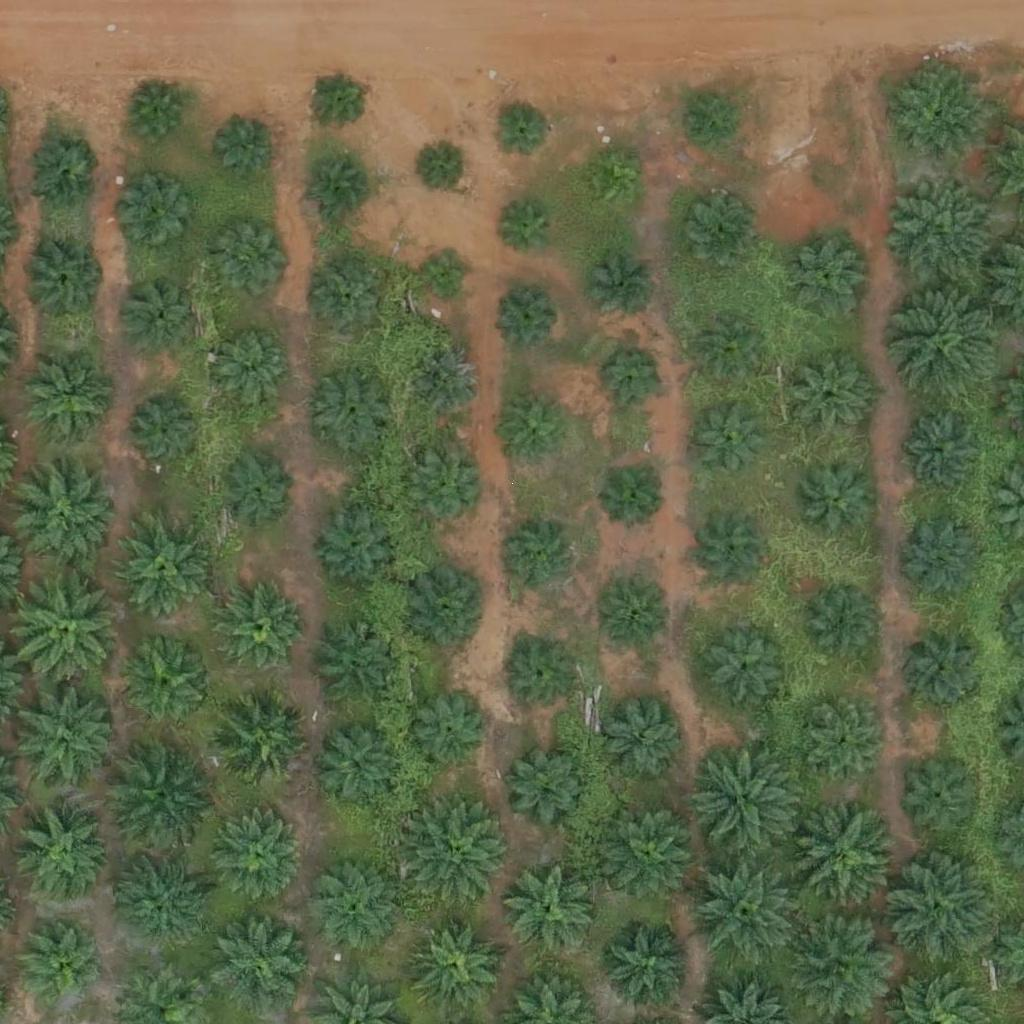Kelapa_Sawit: (3, 567, 128, 693), (889, 178, 1002, 292), (895, 285, 1008, 399), (785, 910, 898, 1023), (686, 743, 799, 856), (686, 856, 799, 969), (104, 740, 216, 854), (883, 850, 995, 963), (784, 803, 896, 916), (890, 65, 990, 166), (601, 803, 701, 904), (408, 800, 508, 901), (12, 800, 112, 901), (15, 467, 115, 567), (109, 518, 209, 618), (302, 858, 402, 958), (212, 694, 312, 794), (206, 809, 306, 909), (210, 918, 310, 1018), (17, 686, 117, 786), (705, 625, 793, 714), (309, 365, 397, 453), (404, 565, 492, 653), (24, 357, 112, 445), (313, 505, 401, 593), (801, 697, 889, 785), (606, 924, 694, 1012), (501, 742, 589, 830), (505, 868, 593, 956), (122, 642, 210, 730), (116, 859, 204, 947), (596, 695, 683, 784), (19, 236, 106, 324), (905, 625, 992, 713), (218, 586, 305, 674), (313, 624, 400, 712), (411, 921, 498, 1009), (315, 722, 402, 810), (213, 327, 288, 403), (123, 275, 198, 351), (128, 394, 203, 470), (217, 450, 292, 526), (696, 308, 771, 384), (680, 198, 755, 274), (794, 359, 869, 435), (23, 136, 98, 212), (789, 239, 864, 315), (909, 412, 984, 488), (907, 526, 982, 602), (121, 178, 196, 253), (214, 220, 289, 295), (312, 264, 387, 339), (506, 640, 581, 715), (494, 524, 569, 599), (695, 515, 770, 590), (800, 587, 875, 662), (802, 459, 877, 534), (696, 399, 771, 474), (404, 450, 479, 525), (411, 349, 486, 424), (583, 254, 658, 329), (597, 344, 672, 419), (595, 458, 670, 533), (598, 582, 673, 657), (902, 761, 977, 836), (412, 698, 487, 773), (21, 930, 96, 1005), (306, 68, 369, 131), (307, 157, 370, 220), (504, 397, 567, 460), (581, 152, 644, 215), (673, 90, 736, 153), (126, 84, 188, 147), (216, 117, 278, 180), (491, 99, 553, 162), (495, 199, 557, 262), (495, 286, 557, 349), (421, 143, 471, 194), (420, 249, 470, 300)
